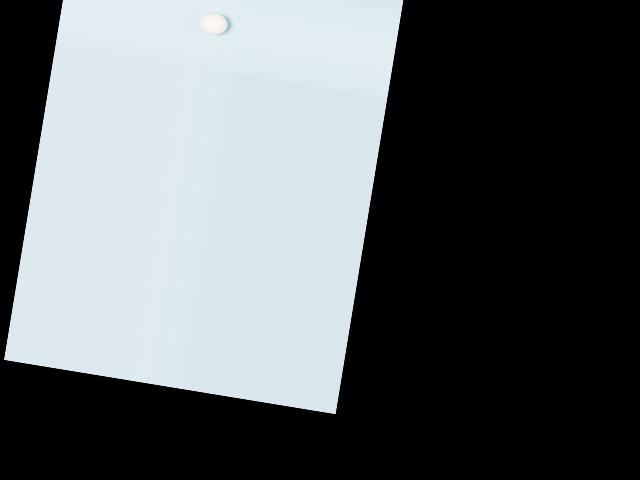egg: (197, 11, 229, 36)
